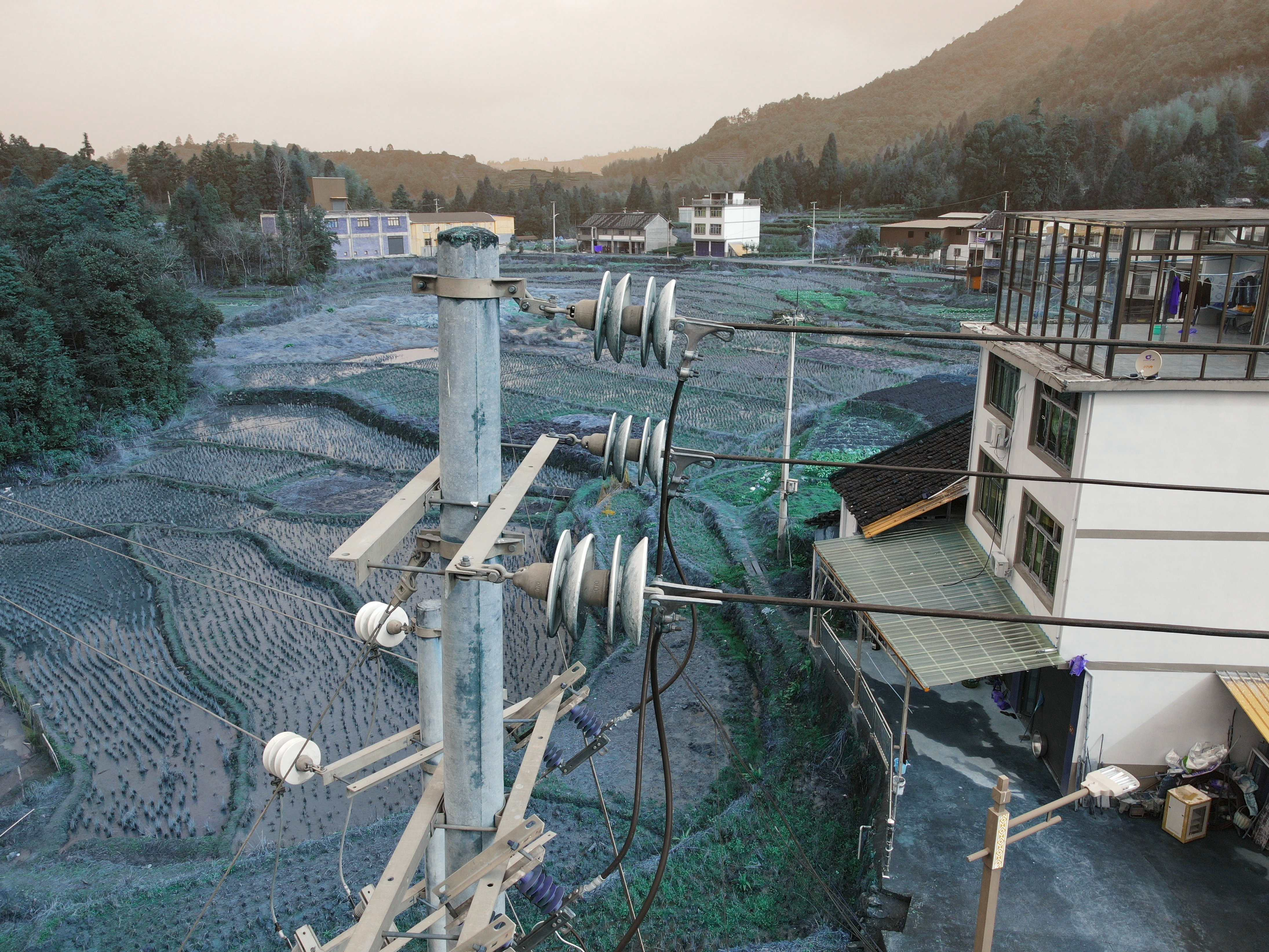severe_soiling_no_discharge_whole: (510, 525, 656, 647), (569, 267, 683, 369), (581, 409, 669, 489)
